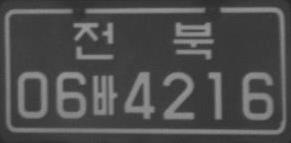0: (16, 70, 49, 118)
1: (202, 71, 230, 119)
2: (161, 71, 196, 120)
4: (123, 71, 156, 119)
6: (241, 71, 275, 121), (55, 71, 86, 118)
바: (90, 75, 118, 115)
전북_D: (72, 21, 215, 59)
